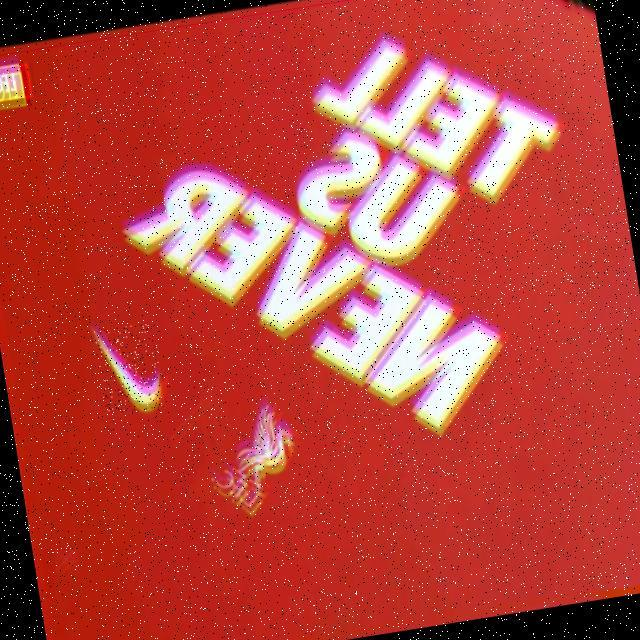Nike: (94, 322, 168, 417)
